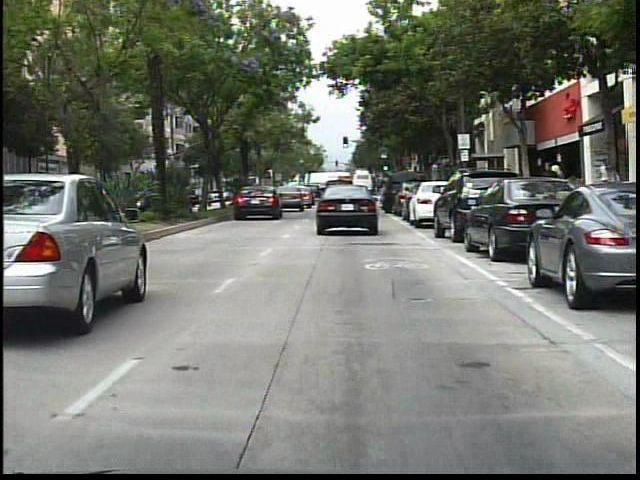person: (533, 157, 558, 222), (541, 159, 568, 219), (594, 152, 618, 218)
